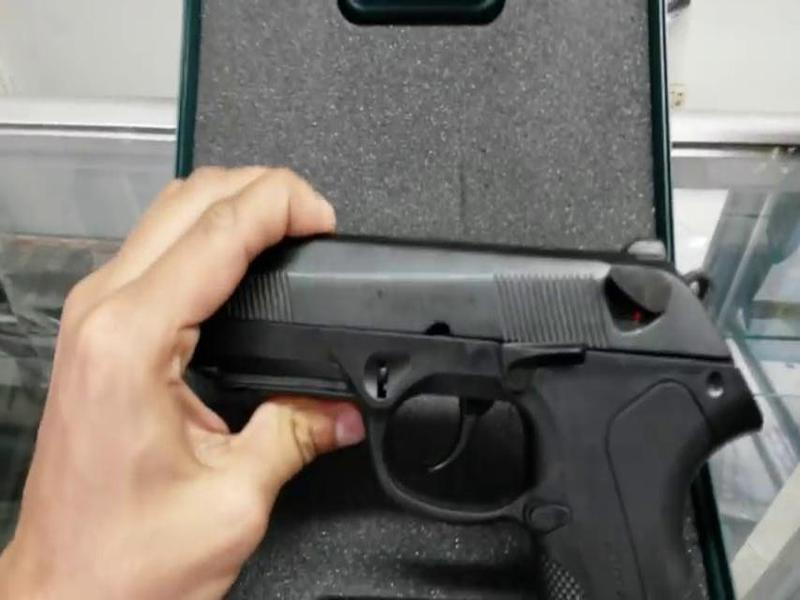Pistola: (185, 192, 752, 600)
